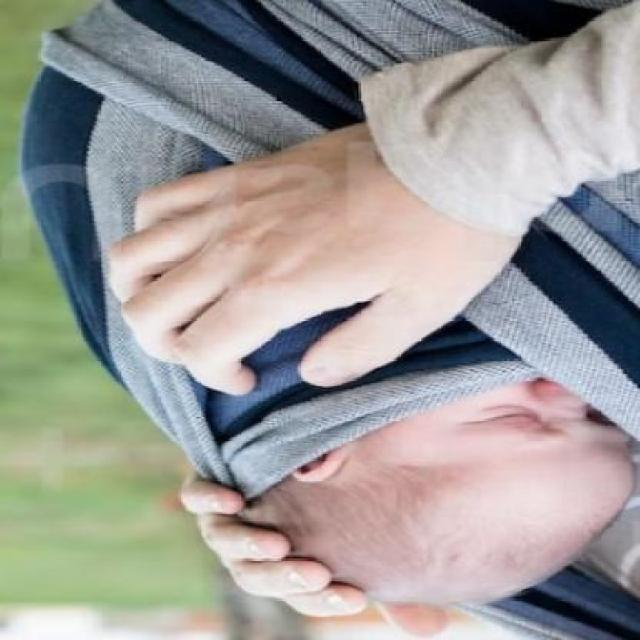non-dog: (115, 1, 640, 406), (204, 379, 640, 640)
